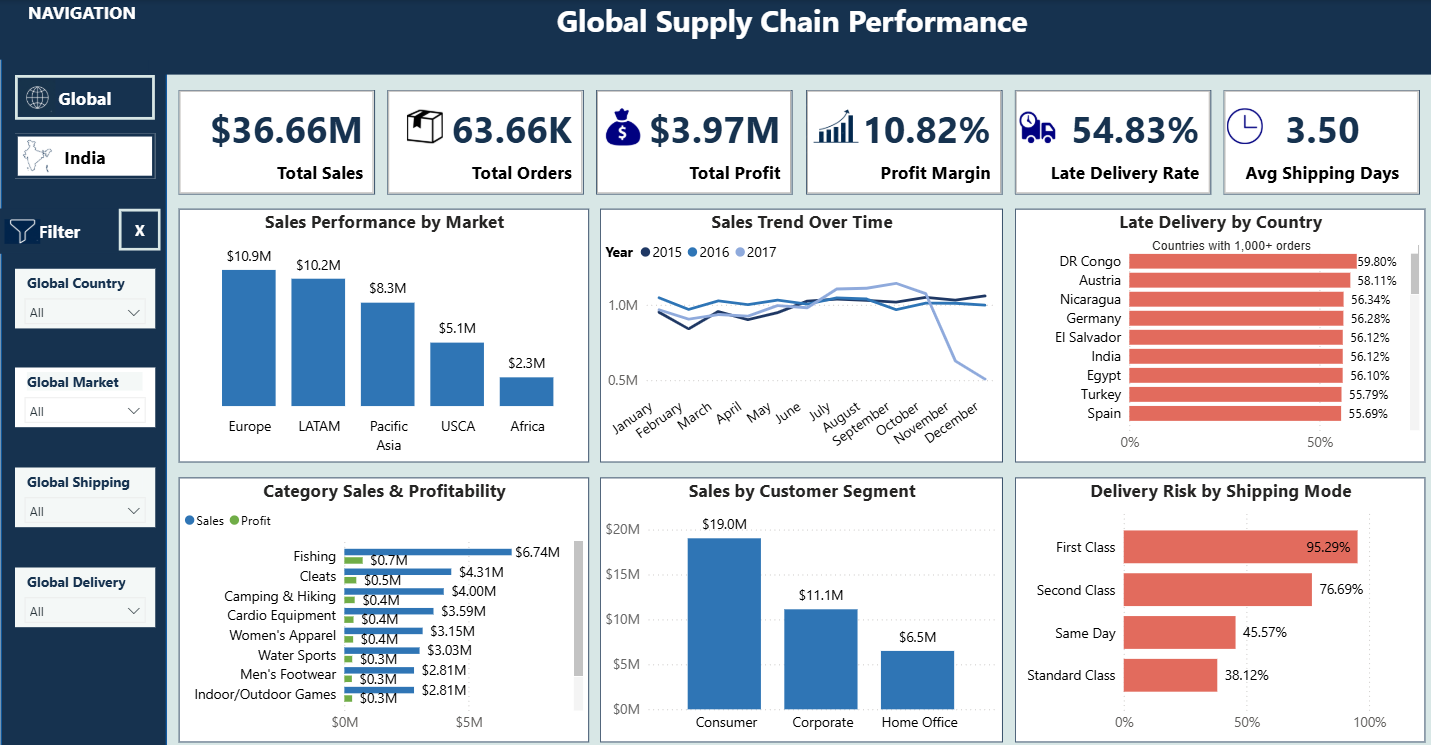

This screenshot's page, from the dashboard's own definition file:
{"tool":"powerbi","page":{"name":"Global","canvas":[1540,800],"ordinal":0},"visuals":[{"type":"cardVisual","fields":{"Data":["Sum(Orders.sales)"]},"box":[192,96,210,112],"z":0},{"type":"cardVisual","title":"Total Orders","fields":{"Data":["Count(Orders.order_id)"]},"box":[416,96,210,112],"z":1000},{"type":"cardVisual","title":"Total Profit","fields":{"Data":["Sum(Orders.benefit_per_order)"]},"box":[640,96,210,112],"z":2000},{"type":"cardVisual","title":"Profit Margin","fields":{"Data":["Orders.Profit Margin"]},"box":[864,96,210,112],"z":3000},{"type":"cardVisual","title":"Late Delivery Rate","fields":{"Data":["Avg(Orders.late_delivery_risk)"]},"box":[1088,96,210,112],"z":4000},{"type":"cardVisual","title":"Average Shipping Days","fields":{"Data":["Avg(Orders.days_for_shipping_real)"]},"box":[1312,96,210,112],"z":5000},{"type":"lineChart","title":"Sales Trend Over Time","fields":{"Y":["Sum(Orders.sales)"],"Category":["Orders.order_date.Variation.Date Hierarchy.Month"],"Series":["Orders.order_date.Variation.Date Hierarchy.Year"]},"box":[644,224,432,272],"z":6000},{"type":"columnChart","title":"Sales Performance by Market","fields":{"Category":["Orders.market"],"Y":["Sum(Orders.sales)"]},"box":[192,224,440,272],"z":7000},{"type":"clusteredBarChart","title":"Category Sales & Profitability","fields":{"Category":["Products.category_name"],"Y":["Sum(Orders.sales)","Sum(Orders.benefit_per_order)"]},"box":[192,512,440,284],"z":8000},{"type":"columnChart","title":"Sales by Customer Segment","fields":{"Category":["Customers.customer_segment"],"Y":["Sum(Orders.sales)"]},"box":[644,512,432,284],"z":9000},{"type":"clusteredBarChart","title":"Delivery Risk by Shipping Mode","fields":{"Y":["Avg(Orders.late_delivery_risk)"],"Category":["Orders.shipping_mode"]},"box":[1088,512,440,284],"z":10000},{"type":"clusteredBarChart","title":"Late Delivery by Country","fields":{"Category":["Orders.order_country"],"Y":["Orders.Country Late Delivery Rate"]},"box":[1088,224,440,272],"z":11000},{"type":"shape","title":"NAVIGATION","box":[0,-6,180,816],"z":12000},{"type":"actionButton","box":[16,80,150,48],"z":13000},{"type":"actionButton","box":[16,144,150,48],"z":14000},{"type":"actionButton","box":[0,224,128,48],"z":15000},{"type":"slicer","fields":{"Values":["Orders.order_country"]},"box":[16,288,150,64],"z":16000},{"type":"slicer","fields":{"Values":["Orders.market"]},"box":[16,394.7,150,64],"z":17000},{"type":"slicer","fields":{"Values":["Orders.shipping_mode"]},"box":[16,501.3,150,64],"z":18000},{"type":"slicer","fields":{"Values":["Orders.delivery_status"]},"box":[16,608,150,64],"z":19000},{"type":"actionButton","box":[128,224,45,45],"z":20000},{"type":"textbox","title":"Global Supply Chain Performance","box":[160,0,1380,80],"z":21000},{"type":"image","box":[431.6,111.5,48,48],"z":22000},{"type":"image","box":[856.6,95.5,80,80],"z":23000},{"type":"image","box":[1088,112,48,48],"z":24000},{"type":"image","box":[1311.6,111.5,48,48],"z":25000},{"type":"image","box":[643.1,111.5,50,50],"z":26000},{"type":"textbox","title":"Countries with 1,000+ orders","box":[1120,256,400,16],"z":27000},{"type":"image","box":[16,80,48,48],"z":28000},{"type":"image","box":[0,224,48,48],"z":29000},{"type":"image","box":[16,144,48,48],"z":30000},{"type":"textbox","title":"NAVIGATION","box":[0,0,176,64],"z":31000}]}

Visuals, with their boxes in screenshot pixels (x1, y1, x2, y2), scaled from the page's 1540x800 canvas onto the 1431x745 screenshot:
cardVisual - Sum(Orders.sales): <box>178,89,374,194</box>
"Total Orders" cardVisual: <box>387,89,582,194</box>
"Total Profit" cardVisual: <box>595,89,790,194</box>
"Profit Margin" cardVisual: <box>803,89,998,194</box>
"Late Delivery Rate" cardVisual: <box>1011,89,1206,194</box>
"Average Shipping Days" cardVisual: <box>1219,89,1414,194</box>
"Sales Trend Over Time" lineChart: <box>598,209,1000,462</box>
"Sales Performance by Market" columnChart: <box>178,209,587,462</box>
"Category Sales & Profitability" clusteredBarChart: <box>178,477,587,741</box>
"Sales by Customer Segment" columnChart: <box>598,477,1000,741</box>
"Delivery Risk by Shipping Mode" clusteredBarChart: <box>1011,477,1420,741</box>
"Late Delivery by Country" clusteredBarChart: <box>1011,209,1420,462</box>
"NAVIGATION" shape: <box>0,0,167,744</box>
actionButton: <box>15,74,154,119</box>
actionButton: <box>15,134,154,179</box>
actionButton: <box>0,209,119,253</box>
slicer - Orders.order_country: <box>15,268,154,328</box>
slicer - Orders.market: <box>15,368,154,427</box>
slicer - Orders.shipping_mode: <box>15,467,154,526</box>
slicer - Orders.delivery_status: <box>15,566,154,626</box>
actionButton: <box>119,209,161,251</box>
"Global Supply Chain Performance" textbox: <box>149,0,1430,74</box>
image: <box>401,104,446,149</box>
image: <box>796,89,870,163</box>
image: <box>1011,104,1056,149</box>
image: <box>1219,104,1263,149</box>
image: <box>598,104,644,150</box>
"Countries with 1,000+ orders" textbox: <box>1041,238,1412,253</box>
image: <box>15,74,59,119</box>
image: <box>0,209,45,253</box>
image: <box>15,134,59,179</box>
"NAVIGATION" textbox: <box>0,0,164,60</box>
